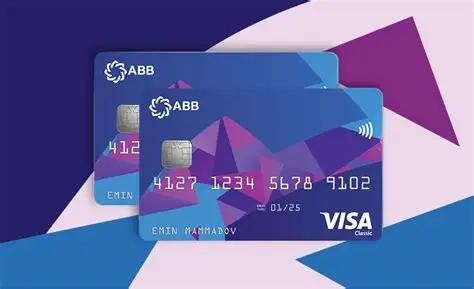ABB: (102, 59, 128, 84), (148, 94, 172, 119)
